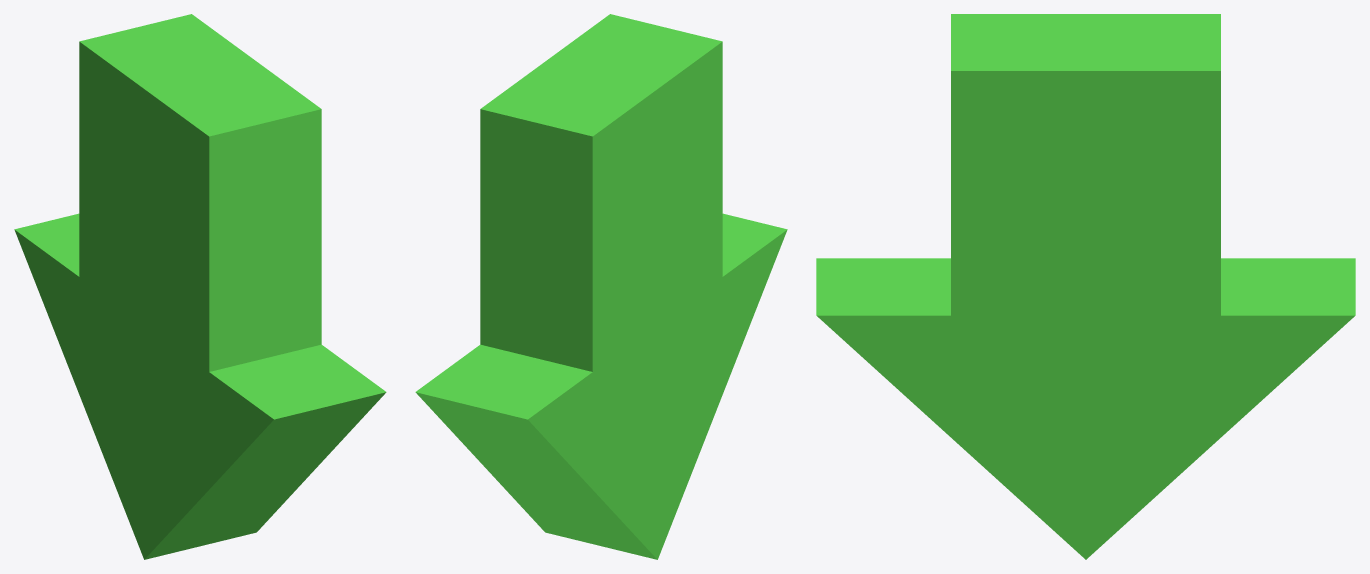
File: arrow.glb
The picture shows the model from 3 angles, left to right: view 1: azimuth 30°, elevation 25°; view 2: azimuth 150°, elevation 25°; view 3: azimuth 270°, elevation 25°; orthographic projection. The views are drawn at different scales.
Parts seen in each view (by area): view 1: arrow; view 2: arrow; view 3: arrow.
Boxes of the visible parts, <box> form: arrow: <box>14,14,386,559</box>; arrow: <box>415,14,787,559</box>; arrow: <box>816,14,1355,559</box>.
Bounding box in the file's own units: 1 × 4 × 4.
